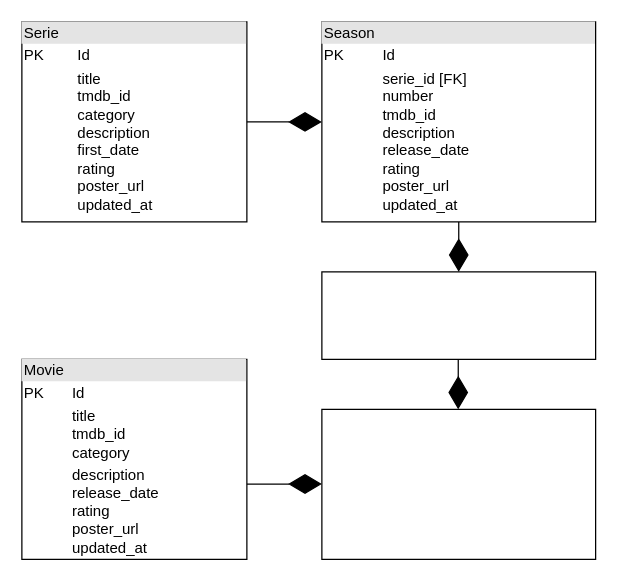
Some shapes in this 618 by 581 pixel diagram are drawn without their labels. Here are the shapes that lost their labels. From the top down, the centre of each, then its label:
(x=458, y=315): Episode PK Id season_id [FK] number
(x=458, y=483): Files PK Id movie_id [FK] episode_id[FK] language video_path sub_path
